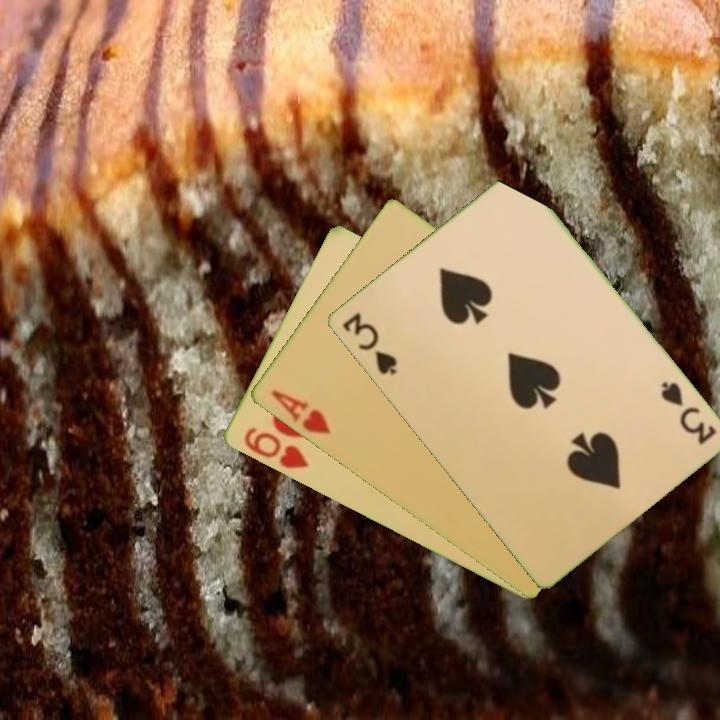3s: (656, 377, 719, 448), (338, 309, 400, 378)
6h: (239, 423, 311, 472)
Ah: (266, 386, 333, 438)
